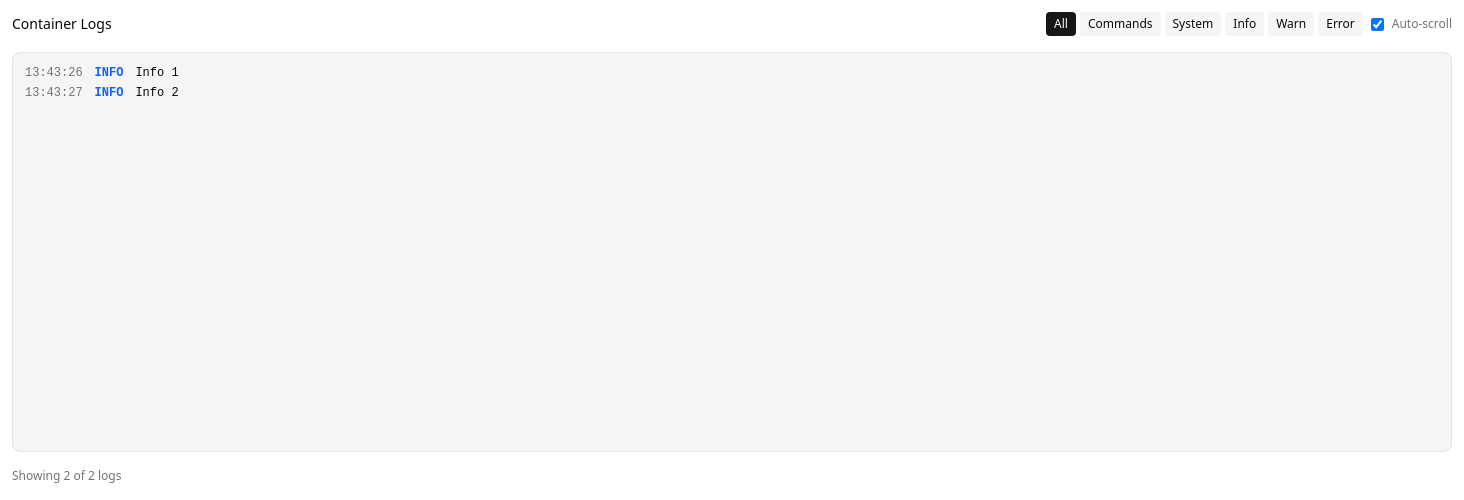
LogViewer › Log Filtering › should show empty state when no logs match filter
Note: Click "Error" filter
Click the button "Error" at (1340, 24), box [1318,12,1363,36]
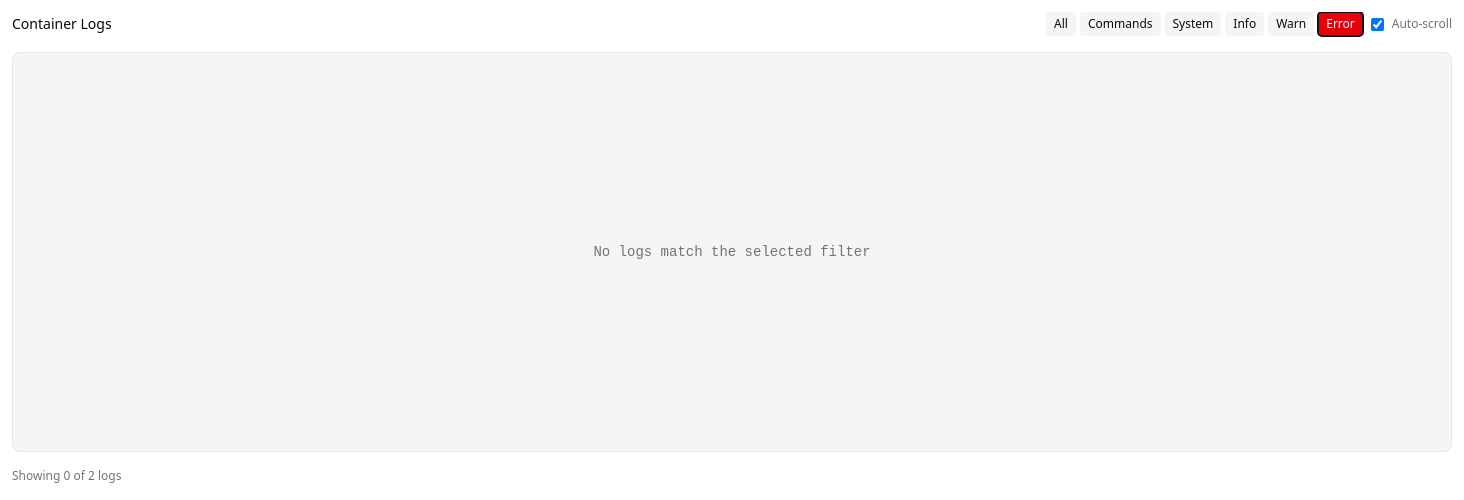
Expected: the text "No logs match the selected filter" is shown, [593,242,871,262]
